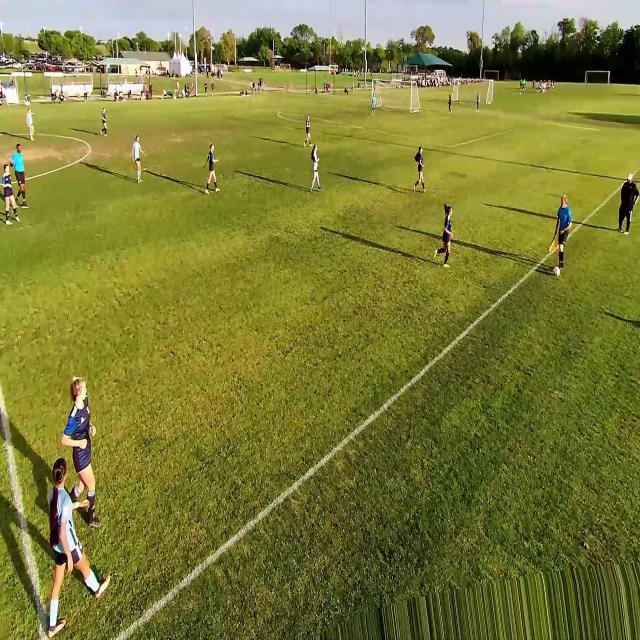ball: (552, 265, 561, 280)
team1: (63, 373, 103, 530), (2, 161, 20, 229), (438, 204, 456, 267), (204, 142, 220, 194), (412, 145, 426, 193), (304, 113, 312, 147), (100, 109, 108, 139)
team2: (32, 457, 106, 625), (309, 144, 321, 193), (131, 136, 143, 184), (26, 108, 34, 144)
